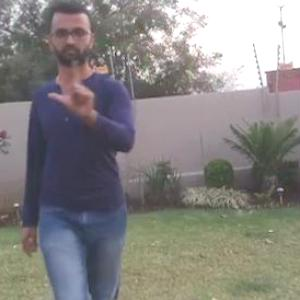land_hand: (44, 54, 103, 122)
